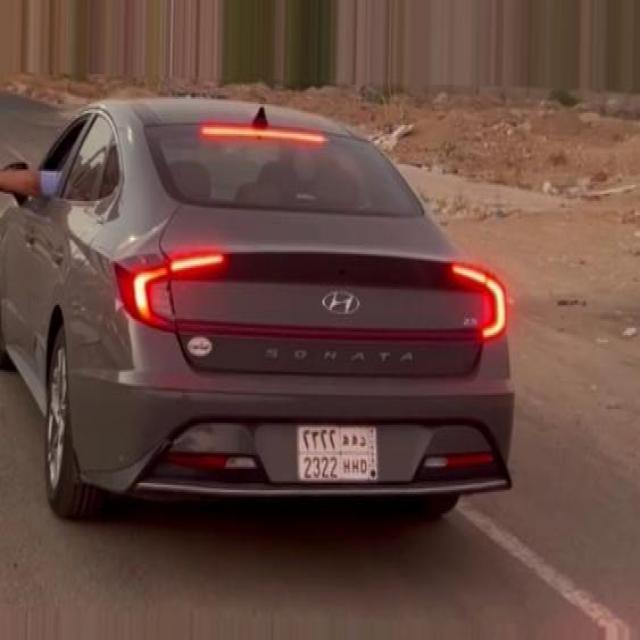Car-plate: (296, 415, 386, 489)
